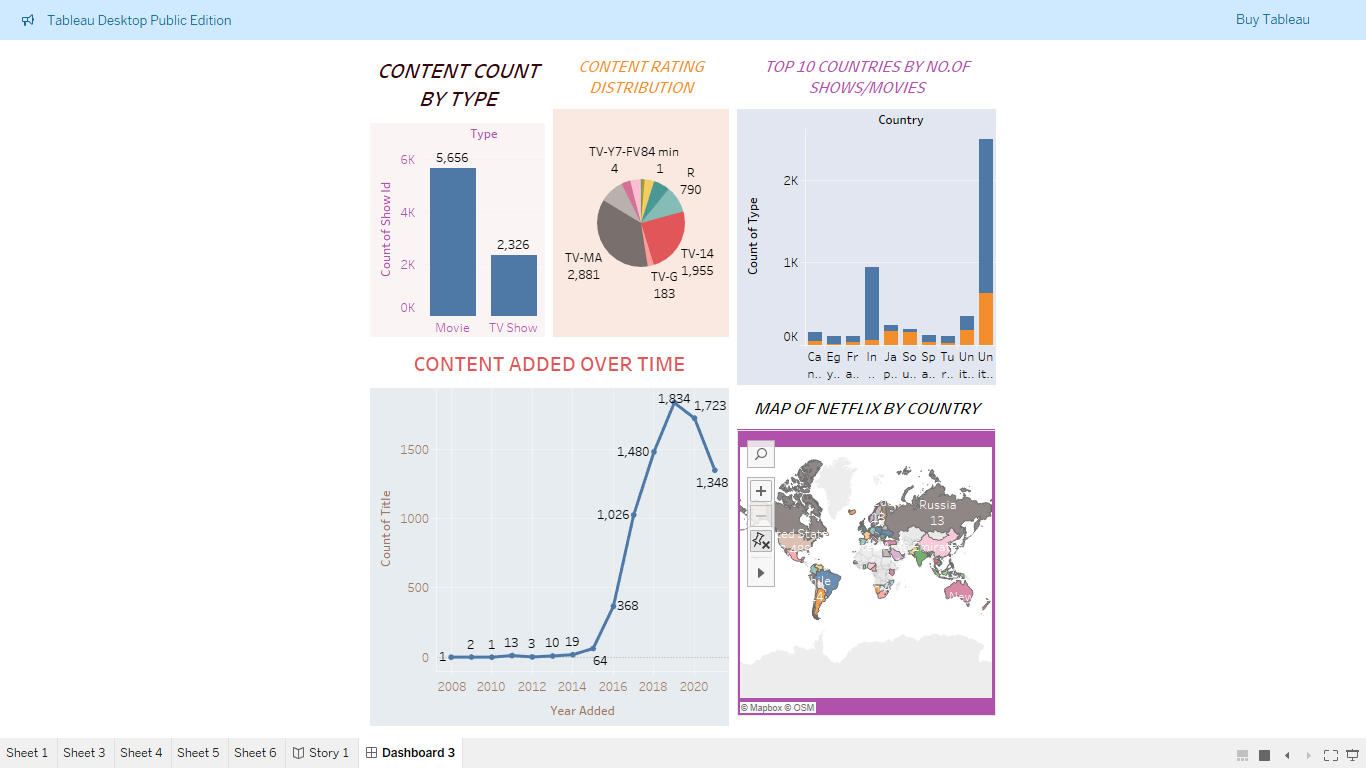

The page's visual inventory and layout, read from the dashboard file:
{"tool":"tableau","page":{"name":"Dashboard 3","canvas":[650,860],"ordinal":0},"visuals":[{"type":"worksheet","title":"Sheet 3","mark":"Automatic","rows":["show_id"],"cols":["type"],"box":[8,12.2,183.5,359]},{"type":"worksheet","title":"Sheet 6","mark":"Pie","box":[191.5,12.2,183.5,359]},{"type":"worksheet","title":"Sheet 1","mark":"Automatic","rows":["type"],"cols":["country"],"box":[375,12.2,267,417.8]},{"type":"worksheet","title":"Sheet 4","mark":"Automatic","rows":["title"],"cols":["year_added"],"box":[8,371.2,367,476.6]},{"type":"worksheet","title":"Sheet 5","mark":"Multipolygon","box":[375,430,267,417.8]}]}

Visuals, with their boxes on the page's 650x860 design canvas (x1, y1, x2, y2). These are canvas units, not pixel positions in the 1366x768 screenshot, which may show the page scaled, cropped or inside an application window:
"Sheet 3" worksheet: [8,12,192,371]
"Sheet 6" worksheet (Pie marks): [192,12,375,371]
"Sheet 1" worksheet: [375,12,642,430]
"Sheet 4" worksheet: [8,371,375,848]
"Sheet 5" worksheet (Multipolygon marks): [375,430,642,848]
